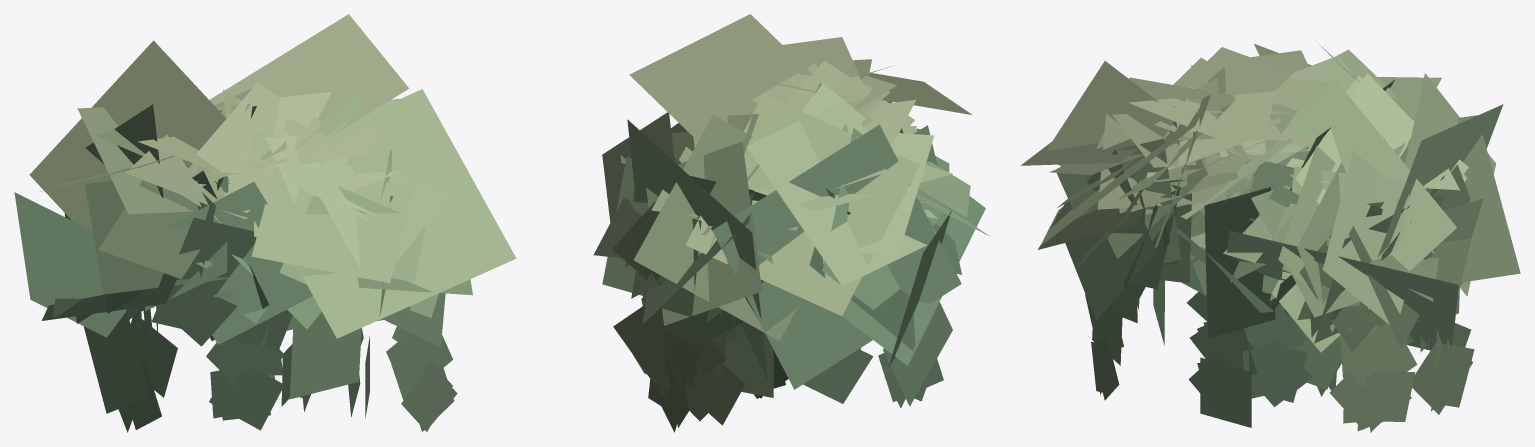
Rendered from willow_v2.glb.
3 renders of one model, left to right at view 1: azimuth 30°, elevation 25°; view 2: azimuth 150°, elevation 25°; view 3: azimuth 270°, elevation 25°, orthographic. The views are drawn at different scales.
Visible parts, largest first — view 1: near, far; view 2: far, near; view 3: near, far.
Part boxes in pixels (<box>): near: <box>85,82,472,432</box>; far: <box>14,14,516,413</box>; far: <box>613,14,985,406</box>; near: <box>593,37,990,432</box>; near: <box>1020,47,1483,432</box>; far: <box>1040,41,1520,389</box>.
Size of the model in its own units: 11.55 by 9.89 by 13.45.
